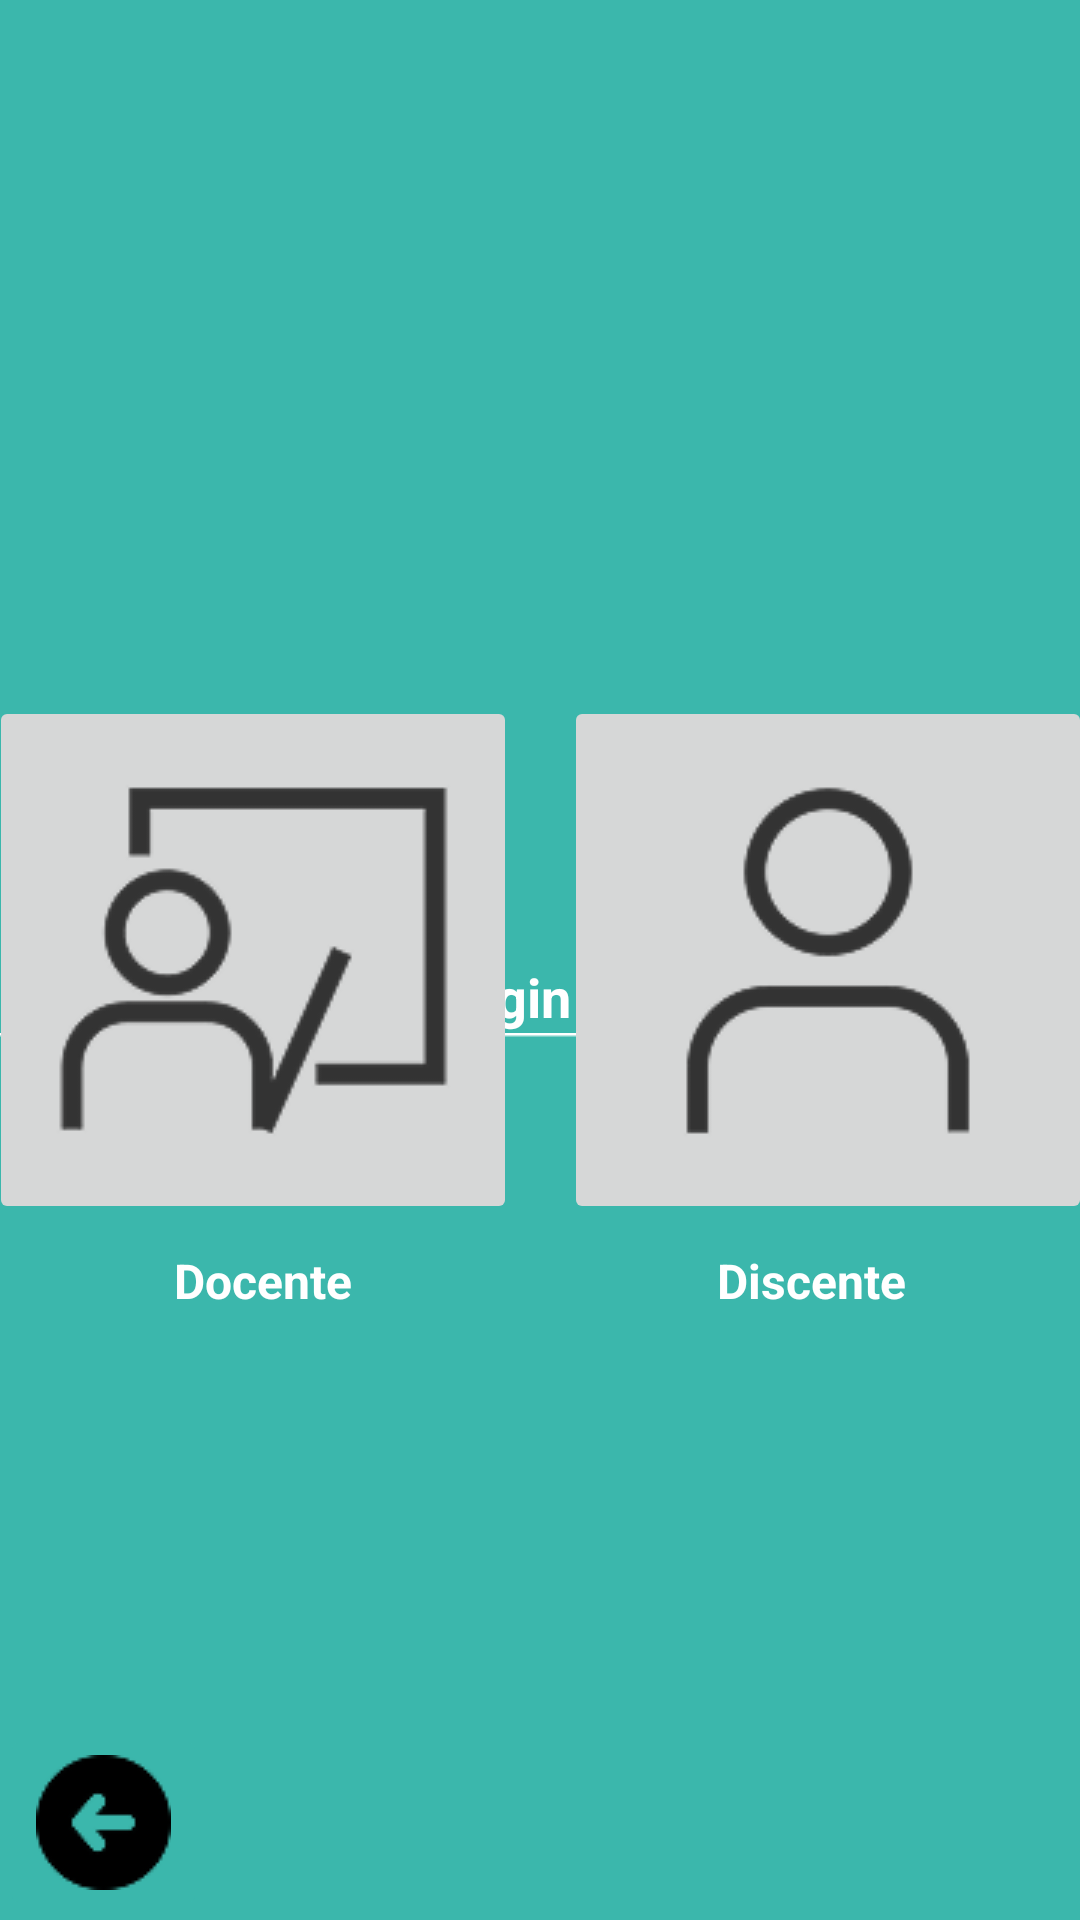

Icon bounding boxes for this 1080w x 1920h phone screenshot, format [x1, y1, x2, y2]:
voltar: [36, 1755, 171, 1890]
